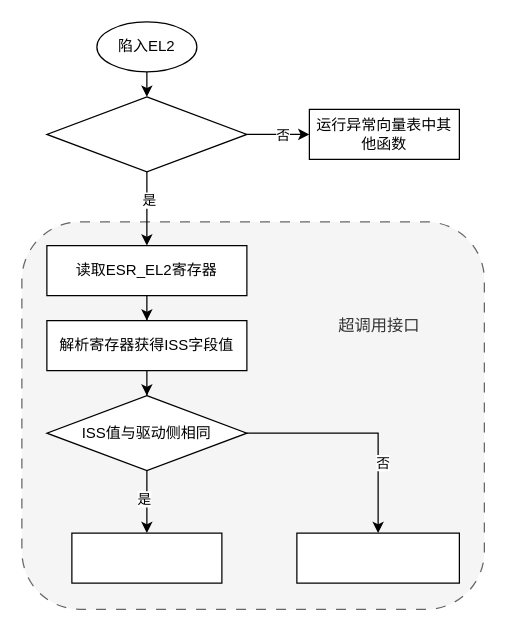
This 506x631 diagram has some shape labels left out. The shapes that lost their labels are listed below. From the top down, each one's centre as x and y in pixels, then its label:
At [146,134]: "是否为hvc指令陷入".
At [146,557]: "处理超调用".
At [377,557]: "标记为非法异常并返回".
